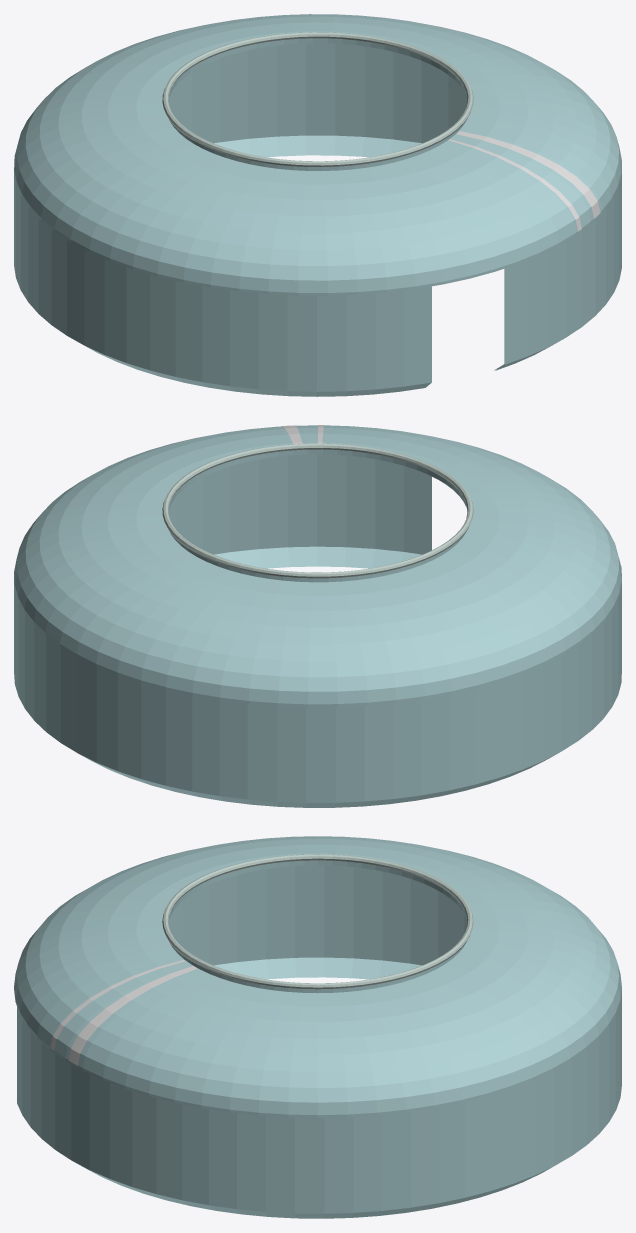
Rendered from goo_jar_glass_1_top.fbx.
3 views of the same model, one above another, from view 1: azimuth 30°, elevation 25°; view 2: azimuth 150°, elevation 25°; view 3: azimuth 270°, elevation 25° (orthographic).
Visible parts, largest first — view 1: goo_jar_glass_1_top; view 2: goo_jar_glass_1_top; view 3: goo_jar_glass_1_top.
Boxes of the visible parts, x1=… form: goo_jar_glass_1_top: x1=14, y1=14, x2=621, y2=396; goo_jar_glass_1_top: x1=14, y1=425, x2=621, y2=807; goo_jar_glass_1_top: x1=14, y1=836, x2=621, y2=1218.
Size of the model in its own units: 62 by 20.12 by 62.
